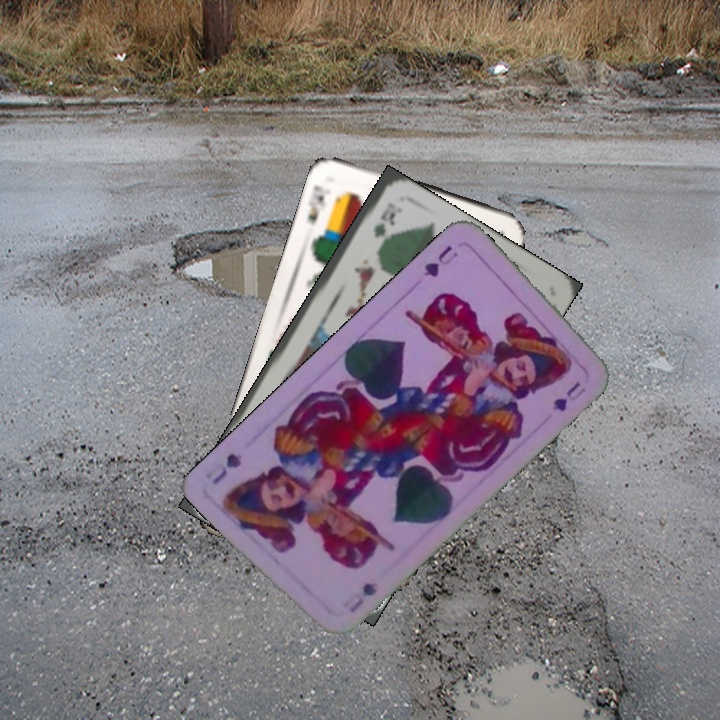EK: (304, 181, 334, 228)
GK: (369, 198, 402, 241)
GU: (419, 241, 461, 280), (339, 578, 380, 616)
